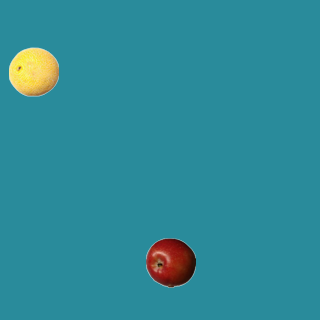Apple Braeburn: (145, 237, 195, 287)
Cantaloupe 1: (8, 46, 58, 96)
